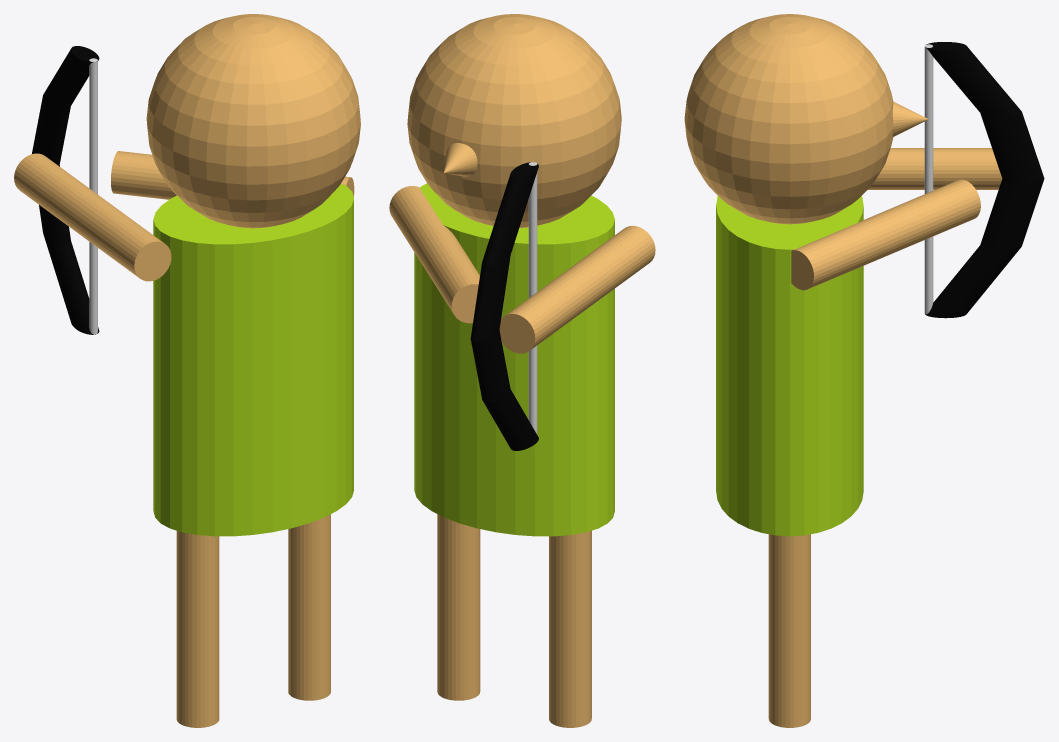
The model's file is Enemy1.gltf.
3 renders of one model, left to right at view 1: azimuth 30°, elevation 25°; view 2: azimuth 150°, elevation 25°; view 3: azimuth 270°, elevation 25°, orthographic.
Visible parts, largest first — view 1: Cylinder.002, Sphere, Cylinder.003, Cylinder.004, Cylinder.001, bow, Cylinder, Cylinder.006; view 2: Cylinder.002, Sphere, bow, Cylinder.003, Cylinder.001, Cylinder.004, Cylinder, Cylinder.006, Cone; view 3: Cylinder.002, Sphere, bow, Cylinder, Cylinder.001, Cylinder.004, Cylinder.006, Cone.
Part boxes in pixels (x1,y1,x2,y2): Cylinder.002: (153, 184, 353, 536); Sphere: (146, 14, 360, 228); Cylinder.003: (176, 531, 219, 727); Cylinder.004: (14, 153, 171, 281); Cylinder.001: (288, 514, 330, 700); bow: (32, 46, 99, 334); Cylinder: (111, 151, 354, 199); Cylinder.006: (89, 58, 97, 334); Cylinder.002: (414, 183, 614, 536); Sphere: (407, 14, 621, 227); bow: (470, 162, 538, 450); Cylinder.003: (549, 530, 591, 727); Cylinder.001: (437, 514, 480, 700); Cylinder.004: (499, 225, 655, 353); Cylinder: (389, 186, 479, 323); Cylinder.006: (528, 162, 537, 434); Cone: (443, 143, 477, 176); Cylinder.002: (716, 196, 863, 536); Sphere: (684, 14, 893, 224); bow: (925, 42, 1044, 318); Cylinder: (791, 179, 980, 290); Cylinder.001: (768, 534, 810, 727); Cylinder.004: (868, 148, 1002, 189); Cylinder.006: (924, 44, 933, 314); Cone: (892, 101, 928, 136).
Size of the model in its own units: 0.6533 by 1.75 by 0.854.
4 materials, 4 textured.
